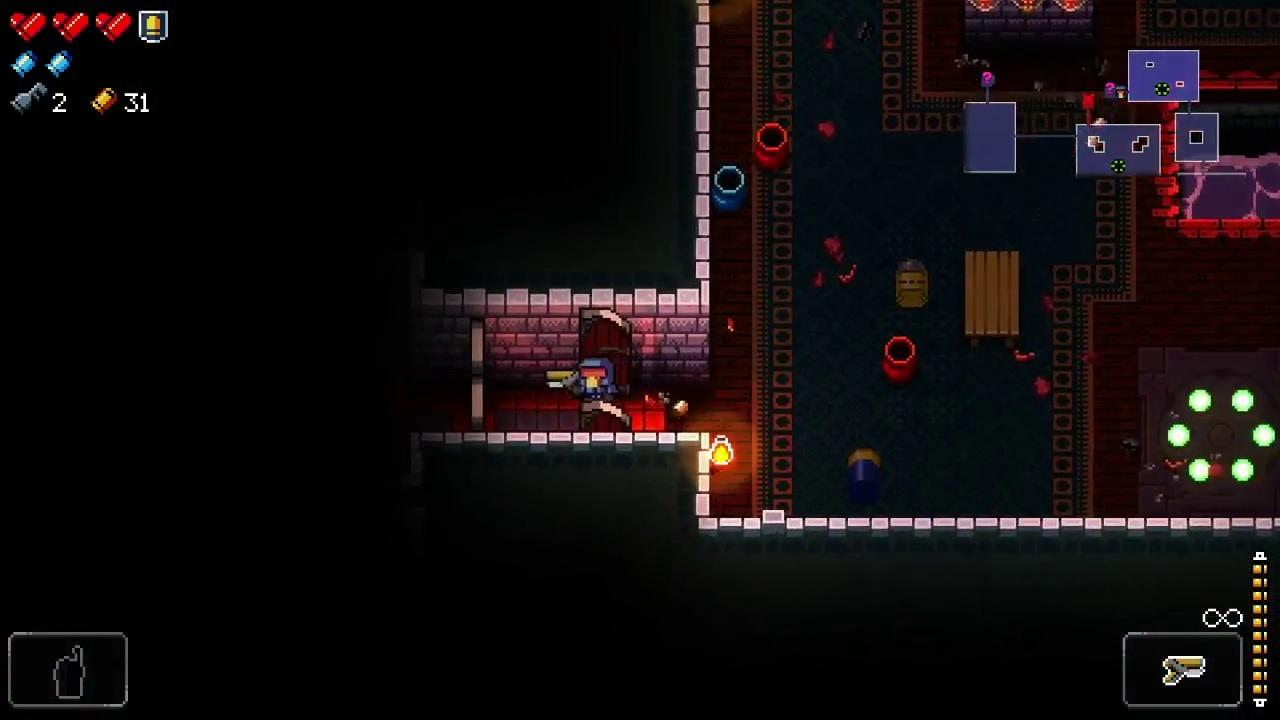bullet_kin: (896, 258, 928, 308)
dead_blue_shotgun_kin: (846, 448, 881, 506)
player: (577, 357, 614, 410)
table: (966, 251, 1019, 348)
teleporter: (1138, 345, 1280, 515)
unlocked_door: (579, 309, 631, 433), (471, 319, 486, 432)
